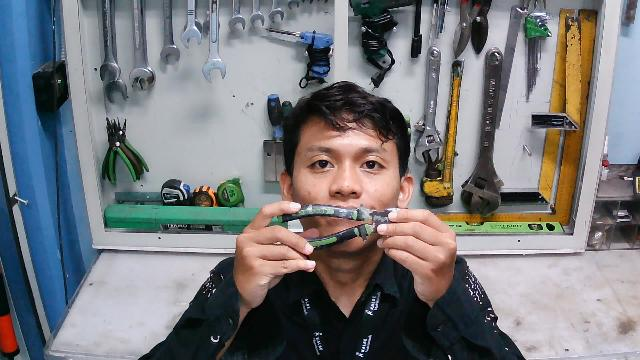tang_kombinasi: (269, 204, 412, 253)
